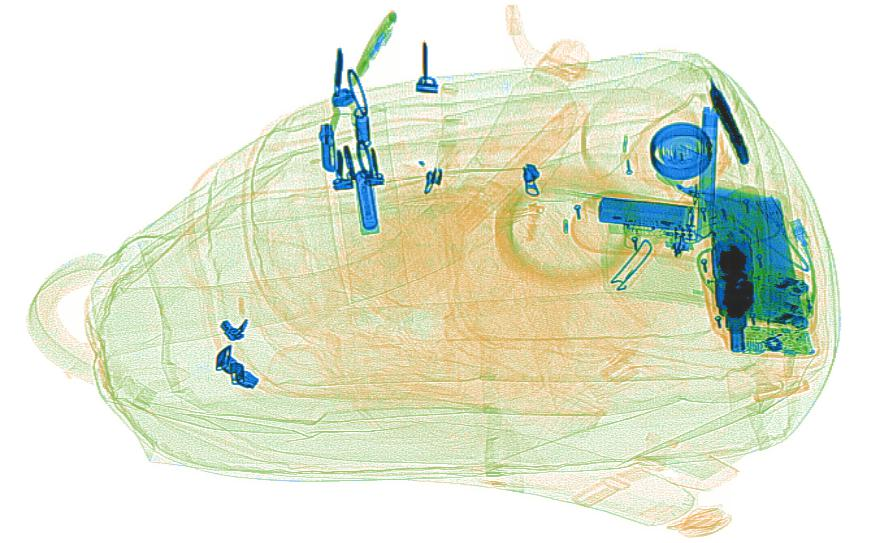battery: (596, 196, 695, 233)
knife: (691, 103, 720, 246)
